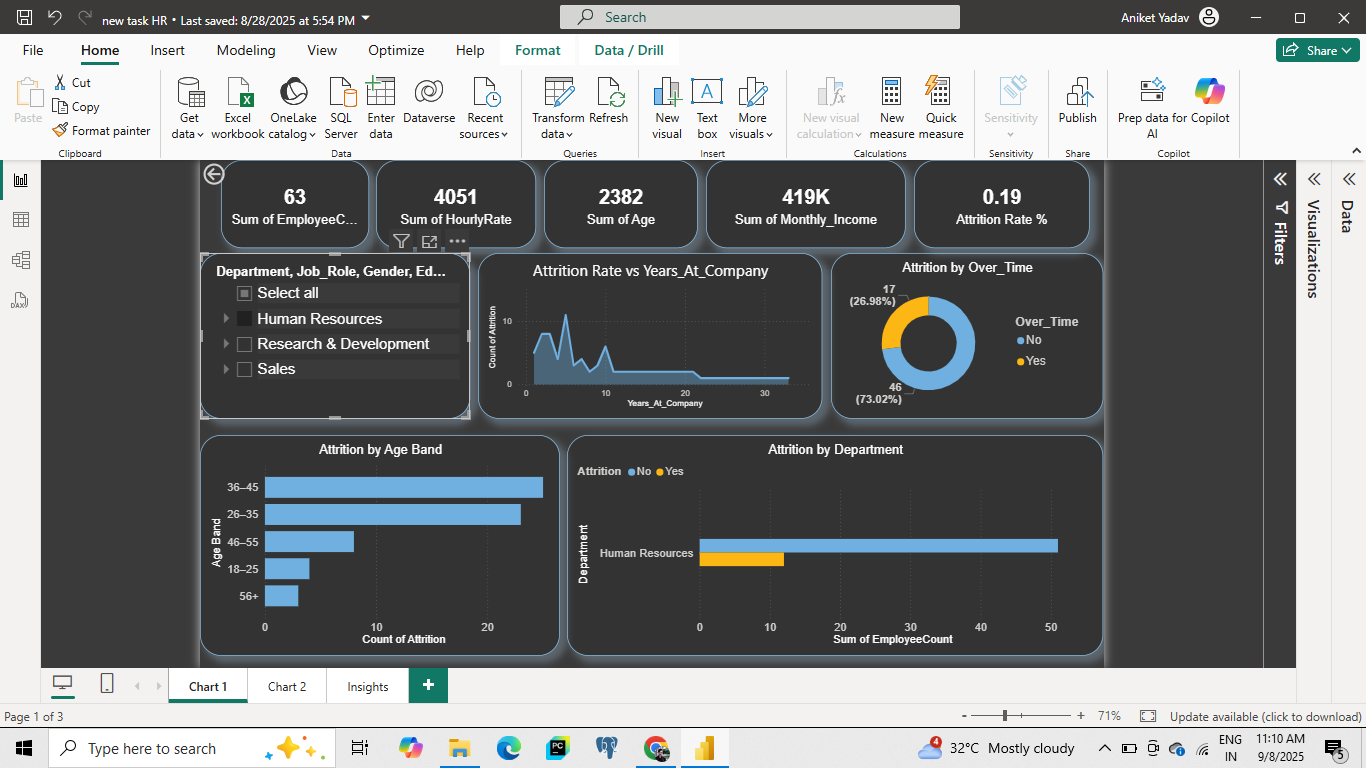

The dashboard page shown, as its layout file describes it:
{"tool":"powerbi","page":{"name":"Chart 1","canvas":[1280,720],"ordinal":0},"visuals":[{"type":"card","fields":{"Values":["Sum(cleaned_hr_attrition.EmployeeCount)"]},"box":[29.8,0,209.8,124.7],"z":0},{"type":"card","fields":{"Values":["Sum(cleaned_hr_attrition.HourlyRate)"]},"box":[249.4,0,226.8,124.7],"z":1000},{"type":"card","fields":{"Values":["Sum(cleaned_hr_attrition.Age)"]},"box":[487.6,0,218.3,124.7],"z":2000},{"type":"card","fields":{"Values":["Sum(cleaned_hr_attrition.Monthly_Income)"]},"box":[717.2,0,283.5,124.7],"z":3000},{"type":"slicer","fields":{"Values":["cleaned_hr_attrition.Department","cleaned_hr_attrition.Job_Role","cleaned_hr_attrition.Gender","cleaned_hr_attrition.EducationField","cleaned_hr_attrition.Age Band"]},"box":[0,131.8,382.7,235.3],"z":4000},{"type":"actionButton","box":[0,0,100,40],"z":5000},{"type":"donutChart","title":"Attrition by Over_Time","fields":{"Category":["cleaned_hr_attrition.Over_Time"],"Y":["CountNonNull(cleaned_hr_attrition.Attrition)"]},"box":[894.3,131.8,385.5,235.3],"z":6000},{"type":"lineChart","title":"Attrition Rate vs Years_At_Company","fields":{"Category":["cleaned_hr_attrition.Years_At_Company"],"Y":["CountNonNull(cleaned_hr_attrition.Attrition)"]},"box":[394,131.8,487.6,235.3],"z":7000},{"type":"card","fields":{"Values":["cleaned_hr_attrition.Attrition Rate %"]},"box":[1012,0,249.4,124.7],"z":8000},{"type":"clusteredBarChart","title":"Attrition by Department","fields":{"Y":["Sum(cleaned_hr_attrition.EmployeeCount)"],"Category":["cleaned_hr_attrition.Department"],"Series":["cleaned_hr_attrition.Attrition"]},"box":[520.2,389.8,759.7,313.2],"z":9000},{"type":"barChart","title":"Attrition by Age Band","fields":{"Category":["cleaned_hr_attrition.Age Band"],"Y":["CountNonNull(cleaned_hr_attrition.Attrition)"]},"box":[0,389.8,510.2,313.2],"z":10000}]}

Visuals, with their boxes on the page's 1280x720 design canvas (x1, y1, x2, y2). These are canvas units, not pixel positions in the 1366x768 screenshot, which may show the page scaled, cropped or inside an application window:
card - Sum(cleaned_hr_attrition.EmployeeCount): <region>30, 0, 240, 125</region>
card - Sum(cleaned_hr_attrition.HourlyRate): <region>249, 0, 476, 125</region>
card - Sum(cleaned_hr_attrition.Age): <region>488, 0, 706, 125</region>
card - Sum(cleaned_hr_attrition.Monthly_Income): <region>717, 0, 1001, 125</region>
slicer - cleaned_hr_attrition.Department x cleaned_hr_attrition.Job_Role: <region>0, 132, 383, 367</region>
actionButton: <region>0, 0, 100, 40</region>
"Attrition by Over_Time" donutChart: <region>894, 132, 1280, 367</region>
"Attrition Rate vs Years_At_Company" lineChart: <region>394, 132, 882, 367</region>
card - cleaned_hr_attrition.Attrition Rate %: <region>1012, 0, 1261, 125</region>
"Attrition by Department" clusteredBarChart: <region>520, 390, 1280, 703</region>
"Attrition by Age Band" barChart: <region>0, 390, 510, 703</region>
